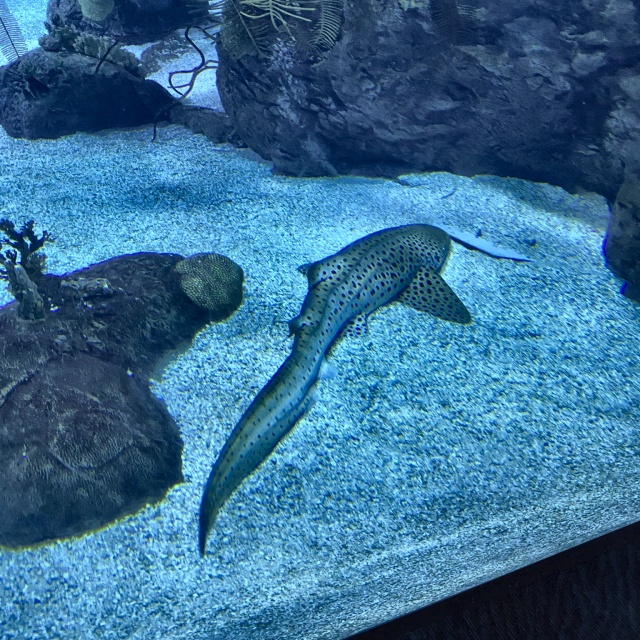fish: (180, 219, 470, 552)
